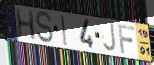4: (78, 17, 96, 51)
F: (117, 24, 136, 55)
H: (15, 8, 37, 42)
I: (60, 14, 68, 47)
J: (102, 22, 117, 54)
S: (35, 11, 55, 45)
